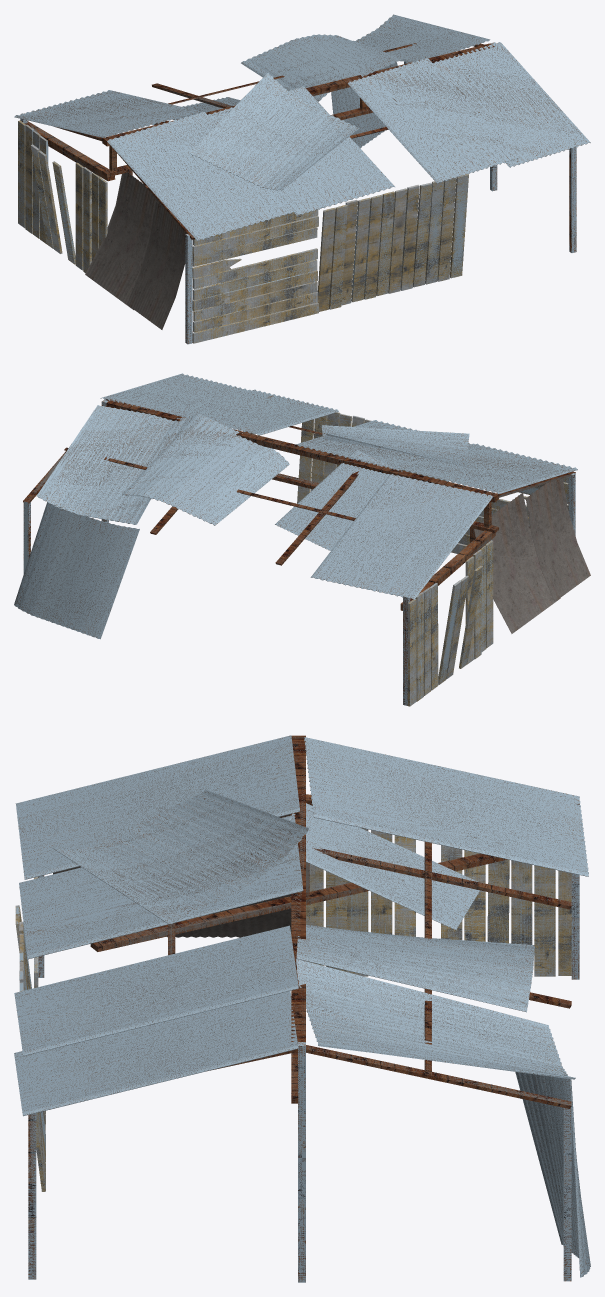
Rendered from Destroyed 2 -static.fbx.
3 views of the same model, one above another, from view 1: azimuth 30°, elevation 25°; view 2: azimuth 150°, elevation 25°; view 3: azimuth 270°, elevation 25° (orthographic). The views are drawn at different scales.
Visible parts, largest first — view 1: Group1; view 2: Group1; view 3: Group1.
Part boxes in pixels (x1,y1,x2,y2): Group1: [14, 14, 590, 344]; Group1: [14, 373, 590, 706]; Group1: [14, 735, 590, 1282].
Bounding box in the file's own units: 892 × 375 × 656.
